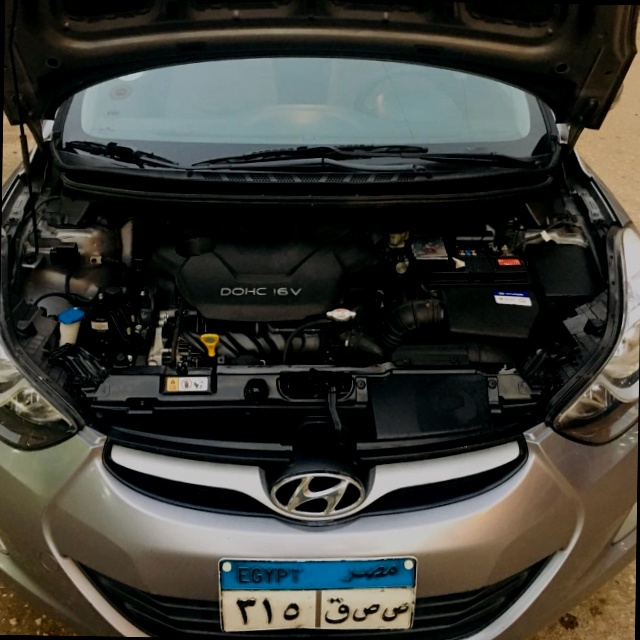License Plate: (214, 549, 420, 638)
